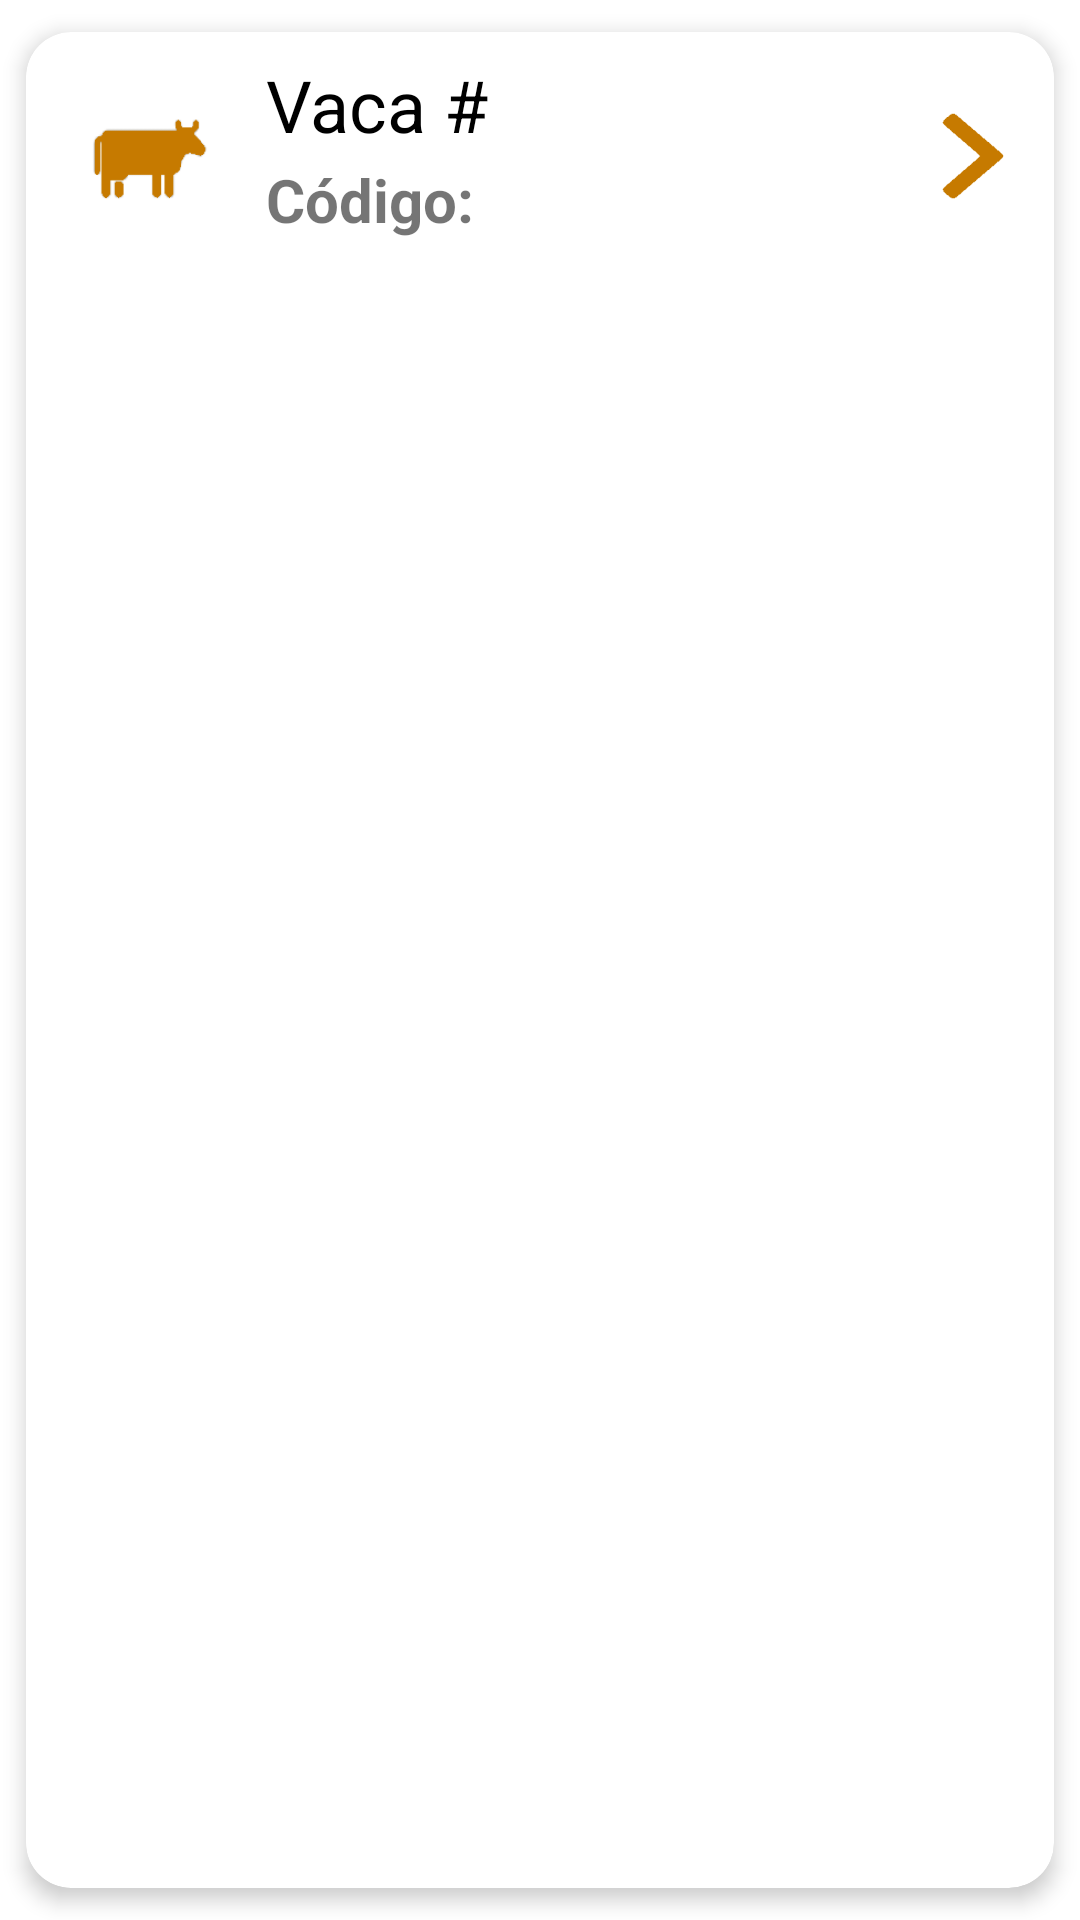

Named icons in this screenshot (1080 x 1920) and their bounding boxes, rect(x1, y1, x2, y2):
next: rect(942, 113, 1004, 199)
